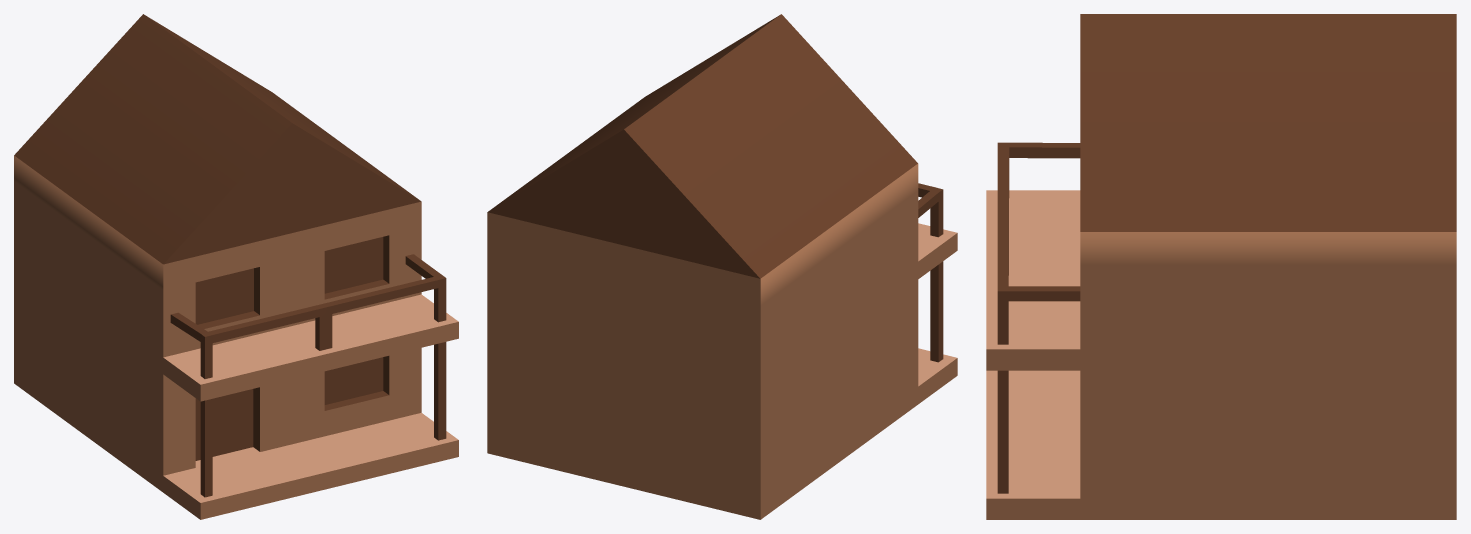
The model's file is House2.fbx.
The picture shows the model from 3 angles, left to right: view 1: azimuth 30°, elevation 25°; view 2: azimuth 150°, elevation 25°; view 3: azimuth 270°, elevation 25°; orthographic projection. The views are drawn at different scales.
Parts seen in each view (by area): view 1: pCube3; view 2: pCube3; view 3: pCube3.
Part boxes in pixels (box(x1,y1,x2,y2)): pCube3: box(14, 14, 458, 519); pCube3: box(487, 14, 957, 519); pCube3: box(986, 14, 1456, 519).
Bounding box in the file's own units: 16 × 20 × 20.
